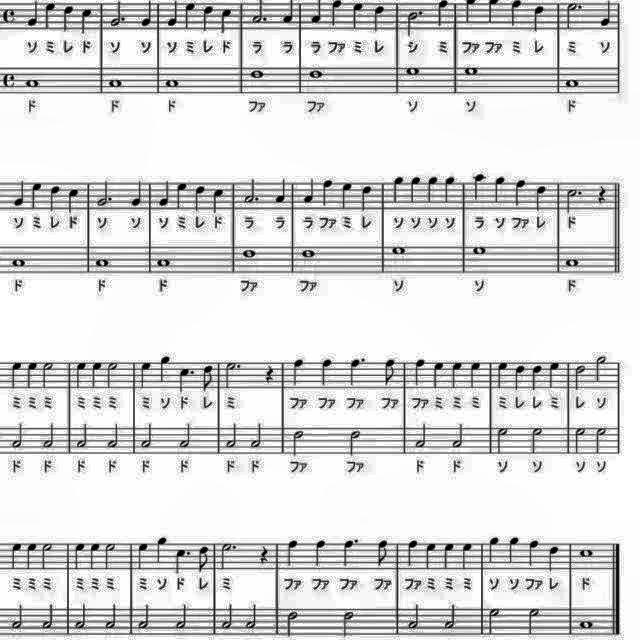Eighth-note: (372, 538, 392, 570), (381, 356, 399, 389), (196, 544, 214, 574), (200, 362, 216, 393)
Full-note: (152, 253, 174, 270), (576, 616, 596, 634), (8, 253, 28, 270), (562, 253, 582, 269), (240, 246, 260, 262), (578, 544, 598, 560), (388, 242, 408, 258), (562, 74, 582, 90), (470, 242, 490, 258), (306, 66, 326, 82), (404, 64, 424, 80), (300, 246, 320, 262), (247, 66, 266, 82), (94, 254, 112, 270), (164, 74, 182, 90), (106, 74, 124, 90), (462, 63, 480, 79), (24, 75, 44, 89)
Half-dot: (562, 0, 586, 32), (221, 358, 243, 392), (405, 6, 427, 38), (564, 185, 586, 215), (94, 177, 116, 207), (240, 176, 260, 208), (218, 540, 238, 572), (110, 0, 130, 28), (250, 0, 270, 26)
Half-note: (590, 354, 610, 386), (38, 360, 58, 392), (339, 607, 358, 640), (527, 424, 545, 458), (527, 607, 545, 640), (494, 425, 512, 457), (347, 428, 365, 460), (486, 606, 504, 638), (7, 419, 25, 451), (105, 358, 123, 390), (37, 540, 55, 572), (101, 540, 119, 572), (289, 428, 307, 459), (247, 421, 265, 452), (39, 421, 57, 452), (406, 602, 424, 632), (450, 422, 468, 452), (177, 422, 195, 452), (570, 361, 588, 391), (284, 608, 300, 640), (176, 602, 192, 634), (218, 602, 234, 634), (571, 424, 587, 456), (242, 602, 258, 634), (592, 424, 608, 456), (73, 602, 89, 634), (414, 422, 431, 452), (223, 421, 240, 451), (105, 422, 122, 452), (136, 603, 152, 633), (8, 602, 24, 632), (443, 602, 459, 632), (140, 423, 156, 453), (40, 602, 56, 632), (102, 601, 118, 631), (74, 422, 90, 452)
Quarter-dot: (338, 537, 362, 571), (345, 356, 367, 390), (172, 544, 192, 576), (176, 365, 196, 395)
Quarter-note: (288, 354, 308, 388), (316, 354, 336, 388), (310, 538, 330, 570), (282, 538, 302, 570), (534, 183, 554, 214), (339, 178, 357, 212), (371, 2, 389, 34), (448, 360, 466, 392), (529, 2, 547, 34), (411, 358, 429, 390), (457, 541, 475, 573), (357, 180, 375, 212), (128, 176, 146, 208), (6, 360, 24, 392), (136, 359, 154, 391), (543, 544, 561, 576), (134, 540, 152, 572), (469, 171, 487, 203), (404, 538, 422, 570), (512, 176, 530, 208), (546, 361, 564, 392), (158, 352, 175, 384), (152, 534, 168, 568), (24, 540, 40, 574), (70, 538, 86, 572), (435, 0, 453, 30), (64, 187, 82, 217), (176, 180, 192, 213), (390, 172, 406, 205), (349, 1, 366, 32), (200, 2, 216, 34), (528, 362, 544, 394), (90, 360, 106, 392), (10, 179, 26, 211), (504, 533, 520, 565), (512, 362, 528, 394), (491, 176, 507, 208), (494, 360, 510, 392), (7, 540, 23, 572), (46, 182, 62, 214), (422, 540, 438, 572), (60, 2, 76, 34), (525, 538, 541, 570), (24, 360, 40, 392), (408, 174, 424, 206), (88, 540, 104, 572), (319, 176, 335, 208), (486, 534, 502, 566), (26, 181, 42, 213), (442, 174, 458, 206), (72, 358, 88, 390), (218, 7, 235, 37), (210, 186, 227, 216), (595, 0, 613, 28), (466, 361, 482, 392), (424, 173, 440, 204), (157, 180, 173, 210), (506, 0, 522, 30), (442, 542, 458, 572), (190, 182, 206, 212), (80, 7, 96, 37), (274, 175, 290, 205), (430, 360, 444, 392), (302, 176, 318, 204), (25, 0, 41, 28), (138, 0, 154, 28), (42, 1, 56, 32), (182, 1, 196, 32), (461, 0, 479, 24), (330, 0, 345, 28), (306, 1, 322, 27), (280, 0, 296, 26), (484, 0, 501, 24), (166, 0, 180, 28)
Quarter-rest: (256, 538, 272, 566), (262, 362, 278, 386), (594, 184, 610, 208)
